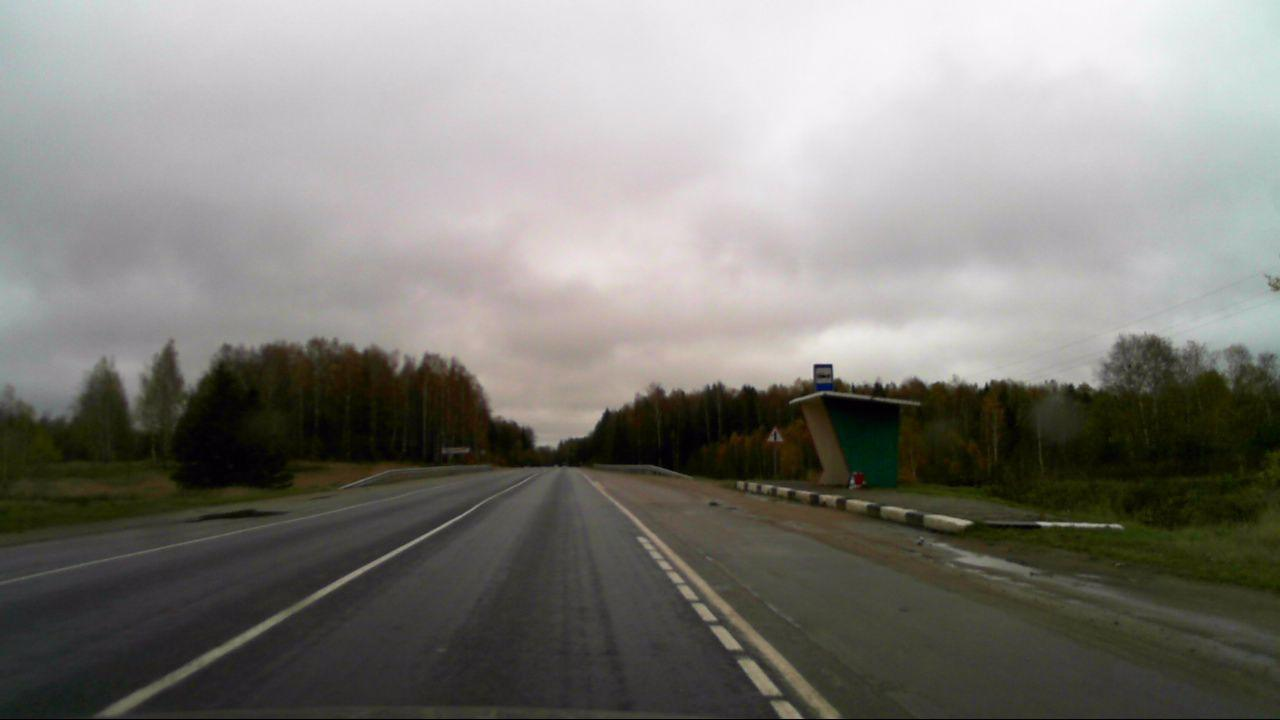road_sign: (814, 364, 833, 391), (766, 426, 785, 443)
